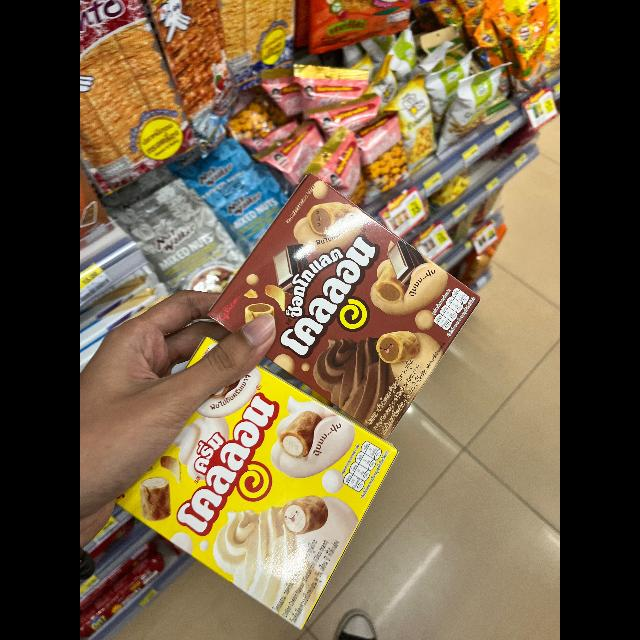cardboard_box: (111, 341, 406, 634)
